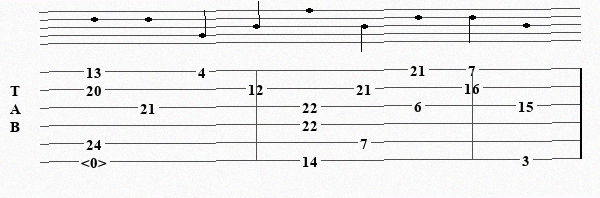12: (248, 81, 268, 95)
13: (86, 63, 106, 77)
14: (302, 153, 322, 167)
15: (518, 99, 538, 113)
16: (464, 81, 484, 95)
20: (86, 81, 106, 95)
21: (140, 99, 160, 113), (356, 81, 376, 95), (410, 63, 430, 77)
22: (302, 117, 322, 131), (302, 99, 322, 113)
24: (86, 135, 106, 149)
3: (522, 153, 534, 167)
4: (198, 63, 210, 77)
6: (414, 99, 426, 113)
7: (360, 135, 372, 149), (468, 63, 480, 77)
harmonic: (81, 153, 111, 167)
